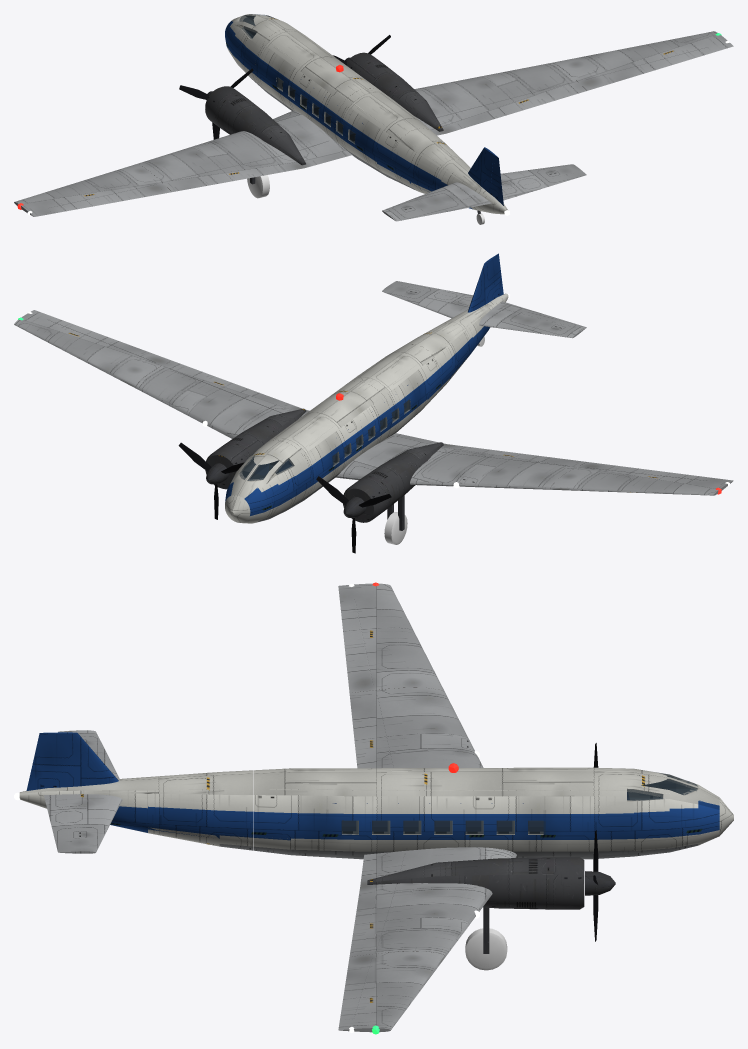
File: propliner.glb
3 views of the same model, one above another, from view 1: azimuth 30°, elevation 25°; view 2: azimuth 150°, elevation 25°; view 3: azimuth 270°, elevation 25° (orthographic). The views are drawn at different scales.
Visible parts, largest first — view 1: fuselage_centre.L0, wing_l_inner.L0, fuselage_cabin_aft.L0, wing_r_inner.L0, fuselage_tail.L0, wing_r_outer.L0, nacelle_1.L0, wing_l_outer.L0, nacelle_2.L0, flap_l.L0, fuselage_nose.L0, flap_r.L0 (+19 smaller); view 2: fuselage_centre.L0, wing_l_inner.L0, fuselage_nose.L0, wing_r_inner.L0, fuselage_cabin_aft.L0, wing_r_outer.L0, wing_l_outer.L0, fuselage_tail.L0, nacelle_1.L0, nacelle_2.L0, tailplane_l.L0, flap_l.L0 (+18 smaller); view 3: fuselage_centre.L0, fuselage_cabin_aft.L0, fuselage_tail.L0, fuselage_nose.L0, nacelle_2.L0, wing_r_inner.L0, wing_l_inner.L0, wing_l_outer.L0, wing_r_outer.L0, flap_r.L0, fin.L0, tailplane_r.L0 (+20 smaller).
Part boxes in pixels (x1,y1,x2,y2): fuselage_centre.L0: (255,29,379,143); wing_l_inner.L0: (137,110,351,191); fuselage_cabin_aft.L0: (335,88,432,183); wing_r_inner.L0: (414,63,586,120); fuselage_tail.L0: (392,128,507,214); wing_r_outer.L0: (552,31,729,90); nacelle_1.L0: (205,86,305,164); wing_l_outer.L0: (14,164,171,216); nacelle_2.L0: (345,52,442,131); flap_l.L0: (169,141,344,190); fuselage_nose.L0: (225,14,297,87); flap_r.L0: (421,83,579,135); fuselage_centre.L0: (266,381,391,501); wing_l_inner.L0: (336,433,586,489); fuselage_nose.L0: (225,440,310,523); wing_r_inner.L0: (135,361,277,438); fuselage_cabin_aft.L0: (347,344,440,437); wing_r_outer.L0: (14,312,171,388); wing_l_outer.L0: (550,462,727,495); fuselage_tail.L0: (405,293,508,394); nacelle_1.L0: (343,442,443,522); nacelle_2.L0: (205,408,306,489); tailplane_l.L0: (479,301,585,338); flap_l.L0: (388,434,578,466); fuselage_centre.L0: (391,767,601,859); fuselage_cabin_aft.L0: (253,768,391,859); fuselage_tail.L0: (19,770,253,850); fuselage_nose.L0: (601,768,733,858); nacelle_2.L0: (367,857,584,909); wing_r_inner.L0: (349,847,516,956); wing_l_inner.L0: (349,687,483,767); wing_l_outer.L0: (338,583,444,692); wing_r_outer.L0: (338,951,445,1032); flap_r.L0: (350,854,403,952); fin.L0: (37,732,118,787); tailplane_r.L0: (44,794,122,853).
Bounding box in the file's own units: 29.15 × 5.83 × 19.85.
21 materials, 14 textured.
